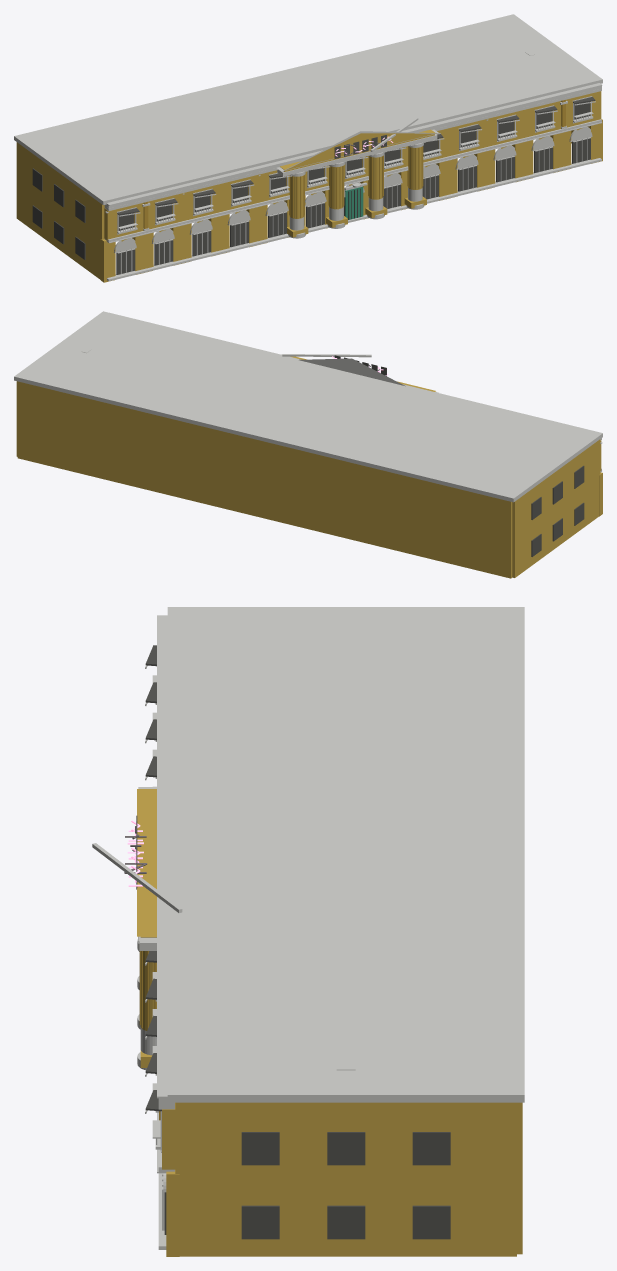
The model's file is aduana-barranquilla.glb.
3 views of the same model, one above another, from view 1: azimuth 30°, elevation 25°; view 2: azimuth 150°, elevation 25°; view 3: azimuth 270°, elevation 25° (orthographic). The views are drawn at different scales.
Visible parts, largest first — view 1: roof_slab, left_wall, ground_base_band, top_parapet_cap, floor_divider, top_parapet, central_pediment_yellow, upper_cornice, floor_divider_drip, central_entablature, column_shaft_2, column_shaft_0 (+15 smaller); view 2: roof_slab, rear_wall, left_wall, central_pediment_white; view 3: roof_slab, right_wall, top_parapet_cap, central_pediment_yellow, side_window_R_0_-4.5, side_window_R_0_0, side_window_R_0_4.5, side_window_R_1_-4.5, side_window_R_1_0, side_window_R_1_4.5, ground_pier_13, rear_wall.
Part boxes in pixels (<box>): roof_slab: <box>14,14,602,205</box>; left_wall: <box>16,142,104,279</box>; ground_base_band: <box>107,158,601,281</box>; top_parapet_cap: <box>106,83,602,205</box>; floor_divider: <box>105,119,601,242</box>; top_parapet: <box>104,86,601,208</box>; central_pediment_yellow: <box>280,129,435,170</box>; upper_cornice: <box>104,88,601,210</box>; floor_divider_drip: <box>107,122,602,243</box>; central_entablature: <box>277,134,437,176</box>; column_shaft_2: <box>368,156,383,199</box>; column_shaft_0: <box>289,175,304,218</box>; roof_slab: <box>14,311,602,502</box>; rear_wall: <box>17,381,512,578</box>; left_wall: <box>512,439,600,577</box>; central_pediment_white: <box>281,354,438,392</box>; roof_slab: <box>167,607,524,1102</box>; right_wall: <box>175,1102,516,1256</box>; top_parapet_cap: <box>157,615,167,1098</box>; central_pediment_yellow: <box>137,789,156,936</box>; side_window_R_0_-4.5: <box>241,1205,279,1239</box>; side_window_R_0_0: <box>327,1205,365,1239</box>; side_window_R_0_4.5: <box>412,1205,450,1239</box>; side_window_R_1_-4.5: <box>241,1132,279,1165</box>; side_window_R_1_0: <box>327,1132,365,1165</box>; side_window_R_1_4.5: <box>412,1132,450,1165</box>; ground_pier_13: <box>166,1170,179,1256</box>; rear_wall: <box>517,1102,522,1254</box>.
Size of the model in its own units: 60.8 by 11.15 by 22.77.
